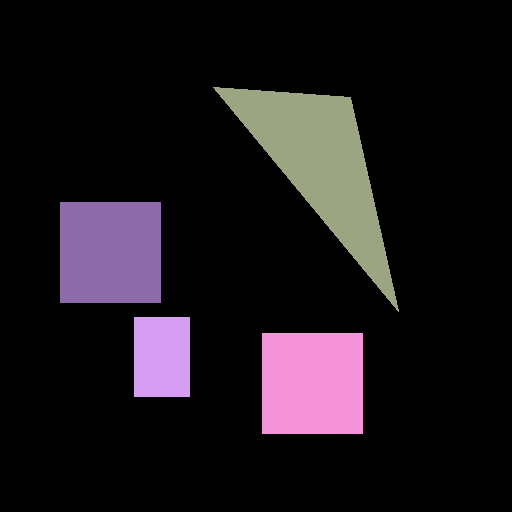rectangle: (134, 317, 189, 396)
square: (262, 333, 362, 433), (60, 202, 160, 302)
triangle: (213, 87, 398, 311)
